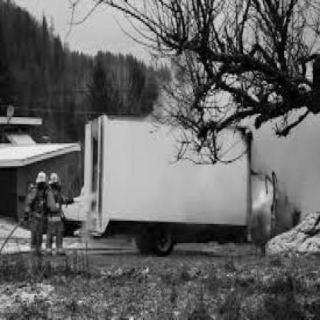Fire: (239, 156, 283, 238)
